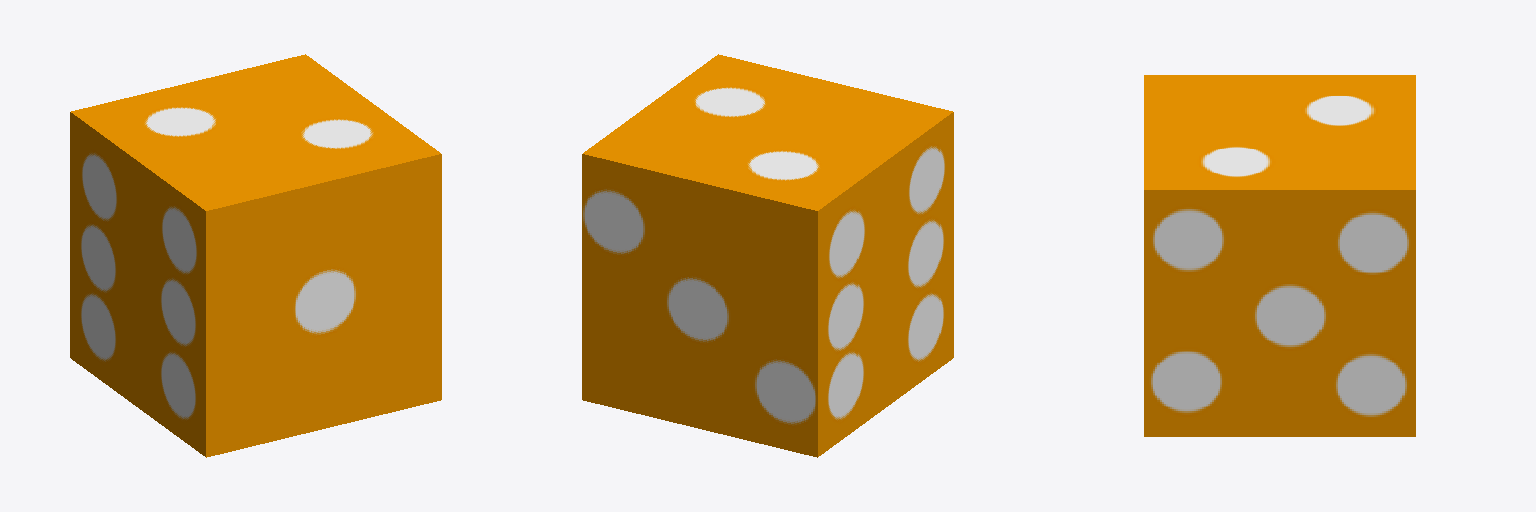
The picture shows the model from 3 angles: view 1: azimuth 30°, elevation 25°; view 2: azimuth 150°, elevation 25°; view 3: azimuth 270°, elevation 25°; orthographic projection.
Parts seen in each view (by area): view 1: pCube1; view 2: pCube1; view 3: pCube1.
Part boxes in pixels (x1,y1,x2,y2): pCube1: (70, 54, 441, 457); pCube1: (582, 54, 953, 457); pCube1: (1144, 75, 1415, 436).
Bounding box in the file's own units: 1 × 1 × 1.
Materials: 1 (1 with a texture image).